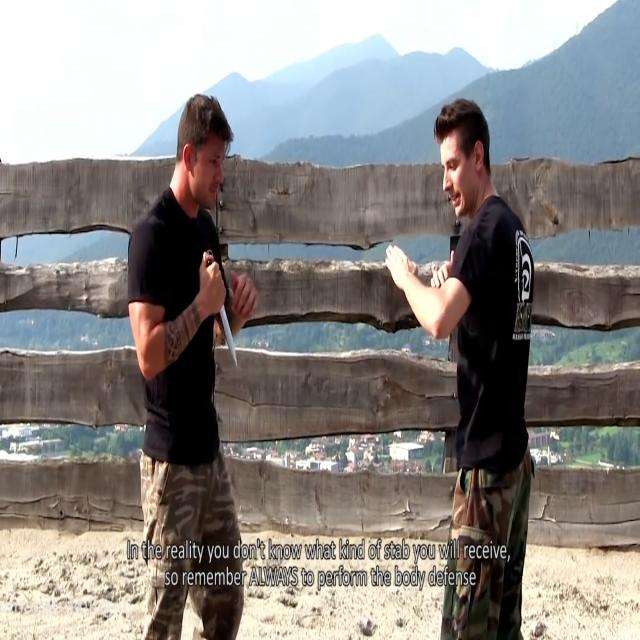knife: (221, 308, 242, 370)
